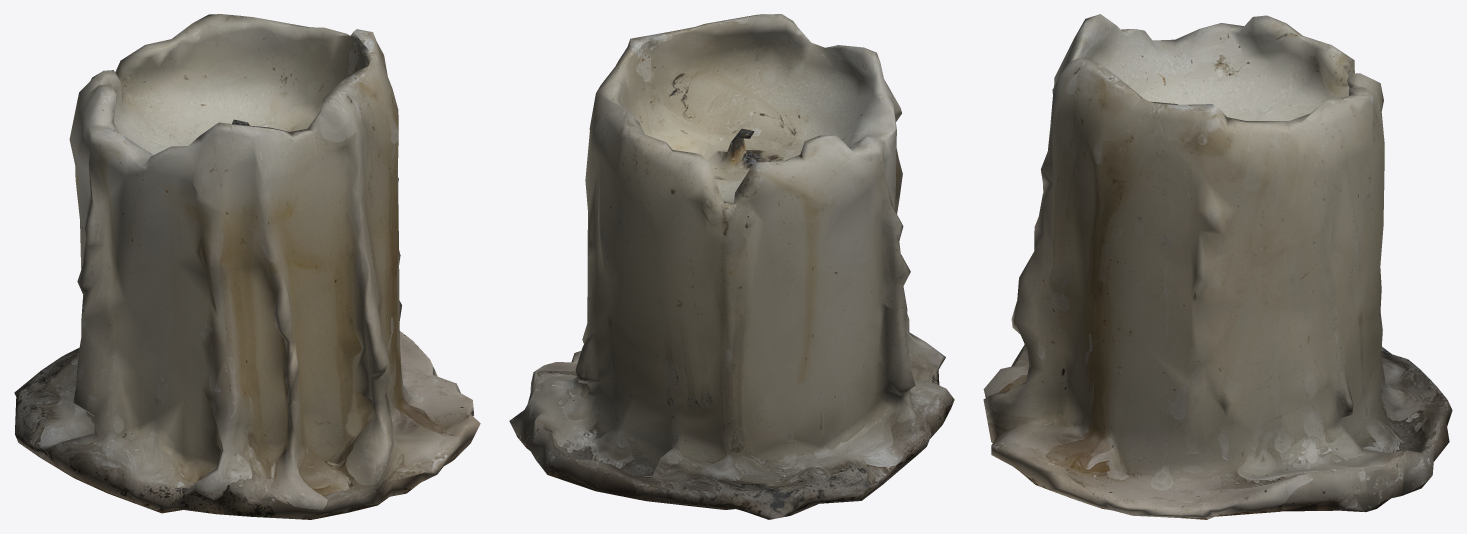
File: sm_Candle_01_02.fbx
The picture shows the model from 3 angles, left to right: view 1: azimuth 30°, elevation 25°; view 2: azimuth 150°, elevation 25°; view 3: azimuth 270°, elevation 25°; orthographic projection. The views are drawn at different scales.
Visible parts, largest first — view 1: sm_Candle_01_02_LOD0; view 2: sm_Candle_01_02_LOD0; view 3: sm_Candle_01_02_LOD0.
Boxes of the visible parts, left/top/right/bottom form: sm_Candle_01_02_LOD0: left=14, top=14, right=480, bottom=519; sm_Candle_01_02_LOD0: left=509, top=14, right=954, bottom=519; sm_Candle_01_02_LOD0: left=983, top=14, right=1452, bottom=519.
Bounding box in the file's own units: 13.66 × 14.08 × 13.
